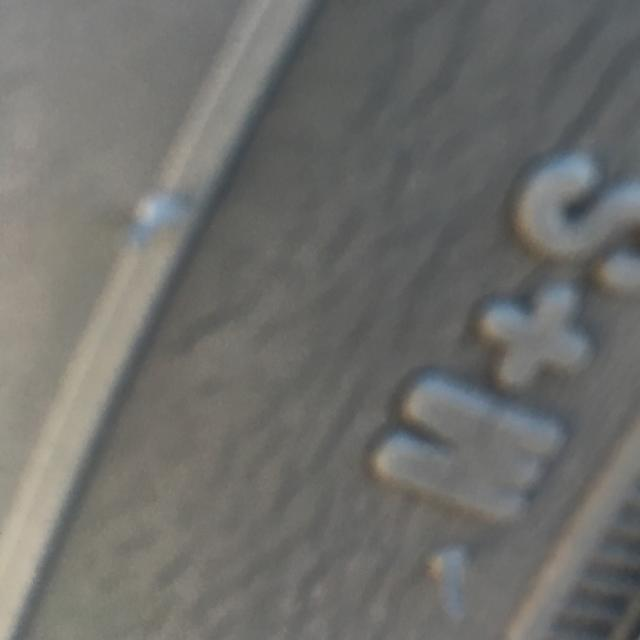Cracks: (51, 0, 640, 640)
